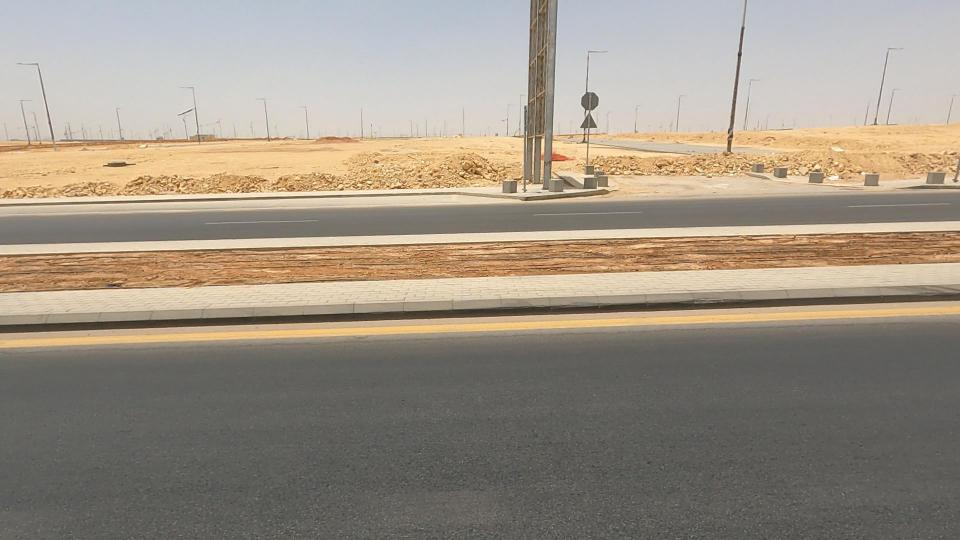GARBAGE: (80, 143, 164, 188)
